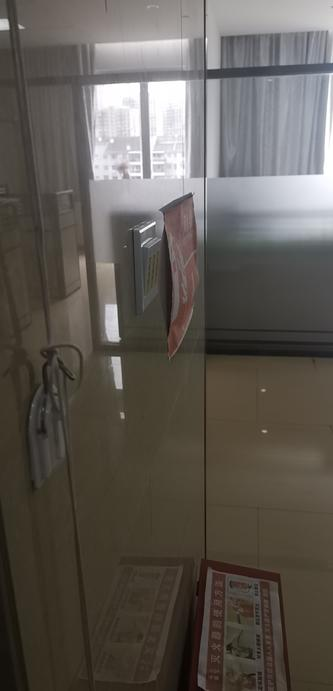switch: (135, 225, 171, 312)
